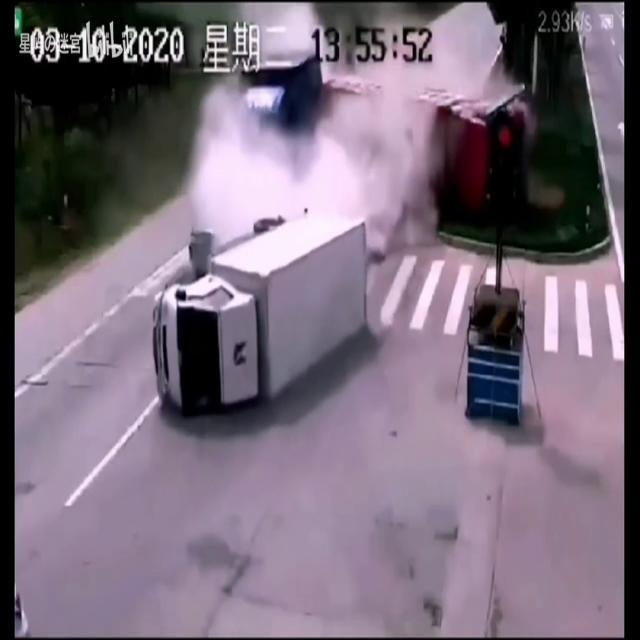accident: (150, 1, 534, 420)
